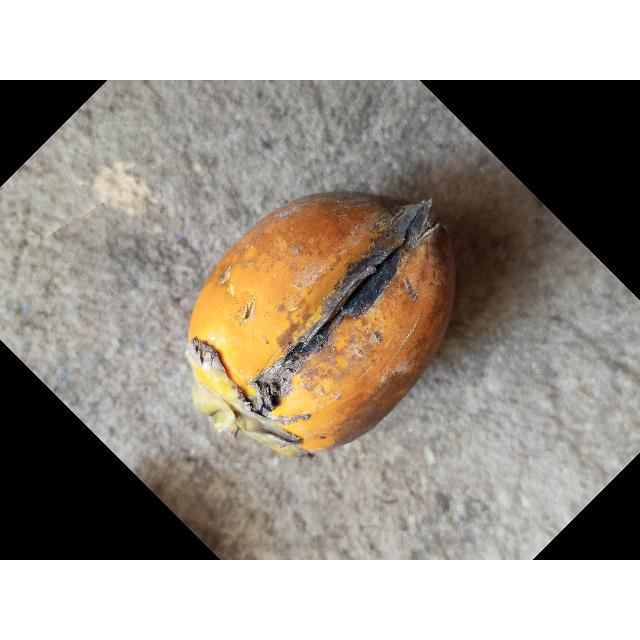damaged: (185, 193, 457, 458)
